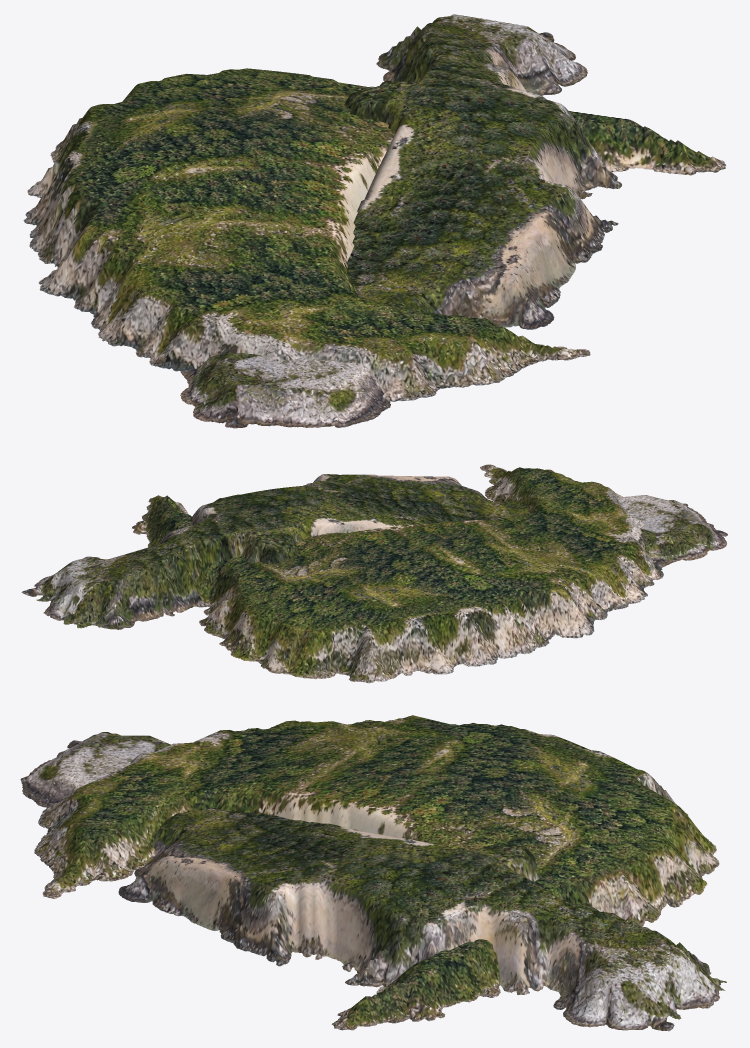
The model's file is island-landforms-v2.glb.
3 views of the same model, one above another, from view 1: azimuth 30°, elevation 25°; view 2: azimuth 150°, elevation 25°; view 3: azimuth 270°, elevation 25° (orthographic). The views are drawn at different scales.
Visible parts, largest first — view 1: cove-island, woodland-island; view 2: cove-island, woodland-island; view 3: cove-island, woodland-island.
Boxes of the visible parts, x1,y1,x2,y2 form: cove-island: [23, 68, 726, 401]; woodland-island: [180, 14, 621, 428]; cove-island: [132, 464, 663, 683]; woodland-island: [21, 474, 727, 629]; cove-island: [34, 715, 719, 1030]; woodland-island: [20, 732, 726, 1031].
Bounding box in the file's own units: 95 × 10 × 96.25.
2 materials, 2 textured.
